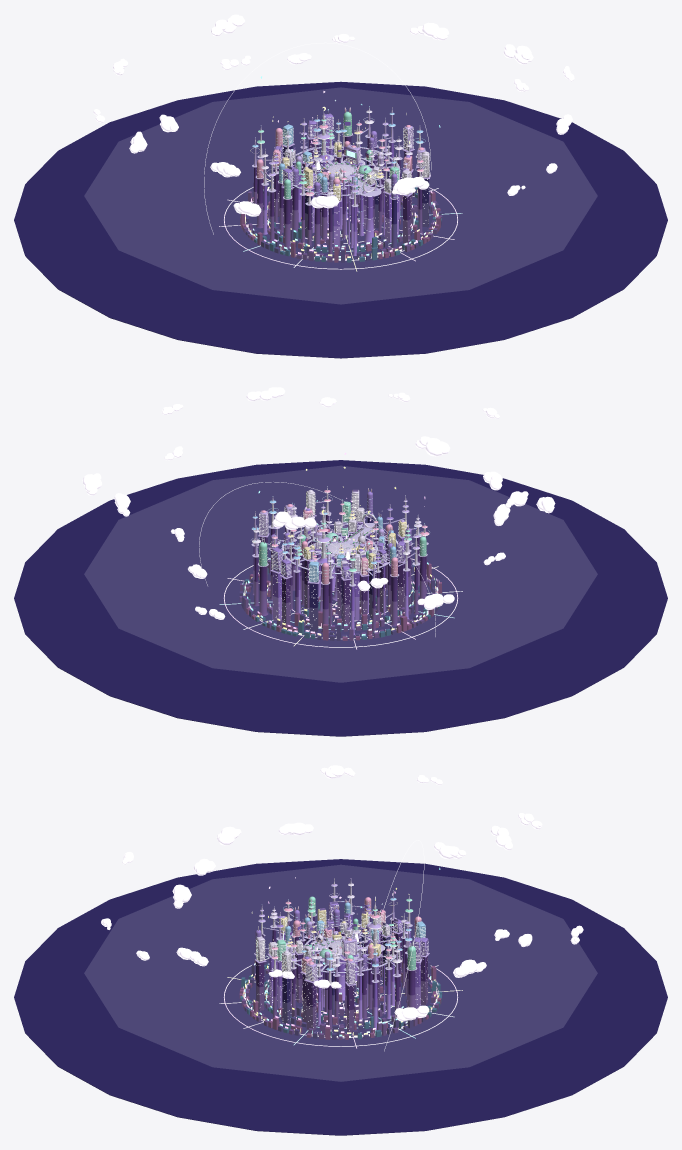
Rendered from pastel-moon-city.glb.
The picture shows the model from 3 angles, top to bottom: view 1: azimuth 30°, elevation 25°; view 2: azimuth 150°, elevation 25°; view 3: azimuth 270°, elevation 25°; orthographic projection.
Parts seen in each view (by area): view 1: City_Lower, City_Far, Sky_Clouds, City_Static; view 2: City_Lower, City_Far, Sky_Clouds, City_Static; view 3: City_Lower, City_Far, Sky_Clouds, City_Static.
Boxes of the visible parts, left/top/right/bottom form: City_Lower: left=14, top=81, right=667, bottom=358; City_Far: left=250, top=106, right=430, bottom=255; Sky_Clouds: left=93, top=14, right=574, bottom=216; City_Static: left=293, top=145, right=400, bottom=244; City_Lower: left=14, top=460, right=667, bottom=736; City_Far: left=251, top=486, right=429, bottom=634; Sky_Clouds: left=82, top=387, right=555, bottom=619; City_Static: left=281, top=510, right=397, bottom=622; City_Lower: left=14, top=859, right=667, bottom=1135; City_Far: left=254, top=878, right=429, bottom=1033; Sky_Clouds: left=101, top=765, right=583, bottom=1021; City_Static: left=282, top=922, right=400, bottom=1014.
Bounding box in the file's own units: 840 × 337 × 840.
